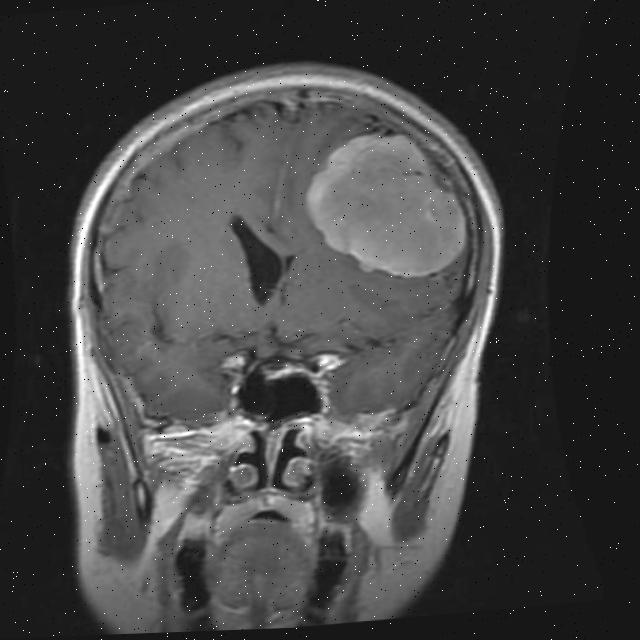Meningioma: (296, 125, 477, 289)
